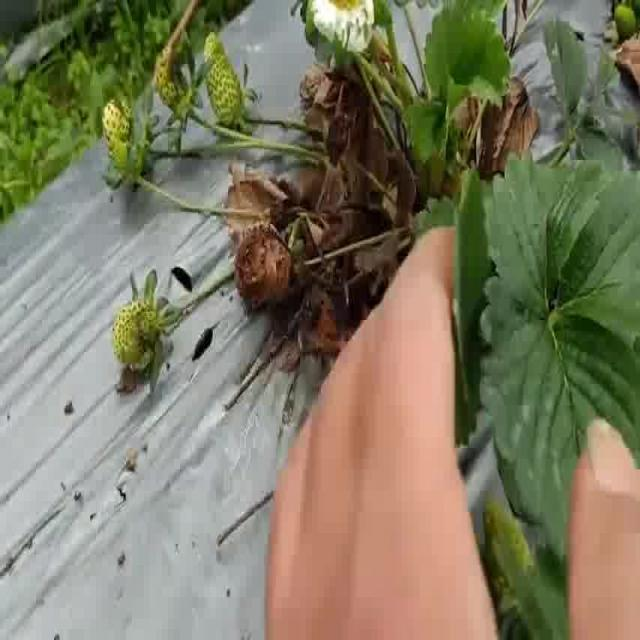Mancha negra Antracnosis: (230, 225, 294, 315)
